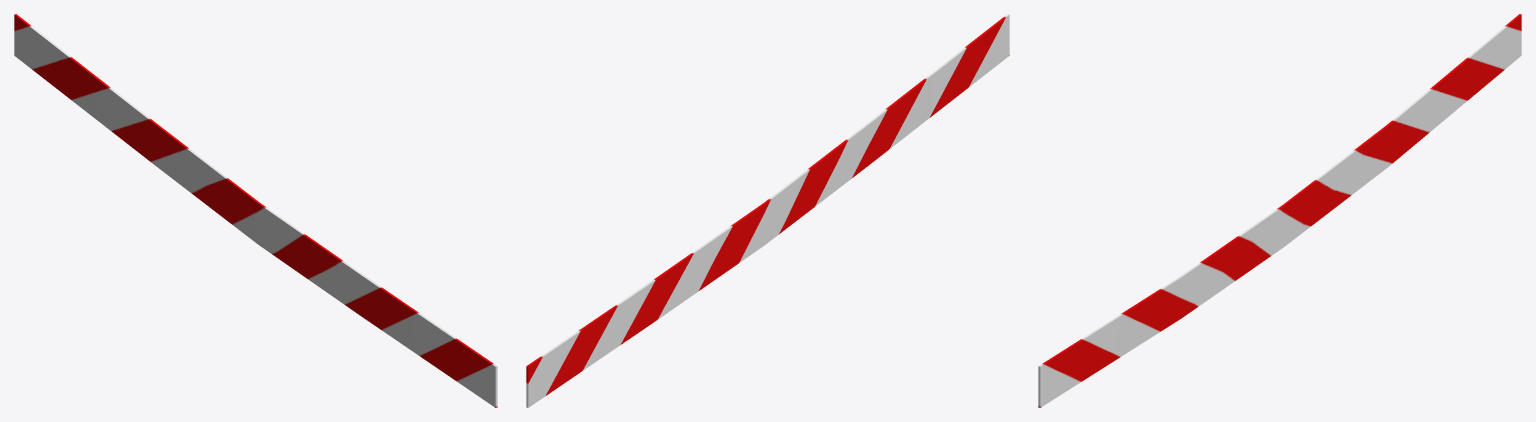
Rendered from Tape_3_1.glb.
3 views of the same model, side by side, from view 1: azimuth 30°, elevation 25°; view 2: azimuth 150°, elevation 25°; view 3: azimuth 330°, elevation 25° (orthographic).
Parts seen in each view (by area): view 1: Tape_3_1; view 2: Tape_3_1; view 3: Tape_3_1.
Part boxes in pixels (x1,y1,x2,y2): Tape_3_1: (14, 14, 497, 407); Tape_3_1: (526, 14, 1009, 407); Tape_3_1: (1038, 14, 1521, 407).
Size of the model in its own units: 0.0277 by 0.2529 by 4.
1 material, 1 textured.
